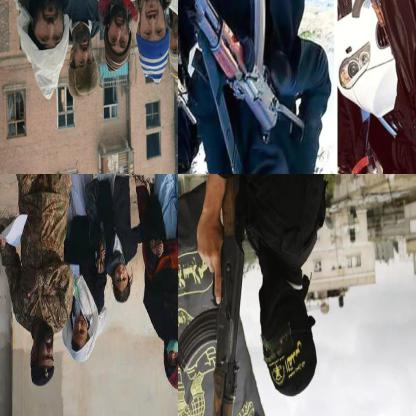rifle: (178, 0, 310, 148), (178, 174, 248, 415), (337, 0, 395, 54), (178, 30, 202, 128), (335, 160, 396, 173)
